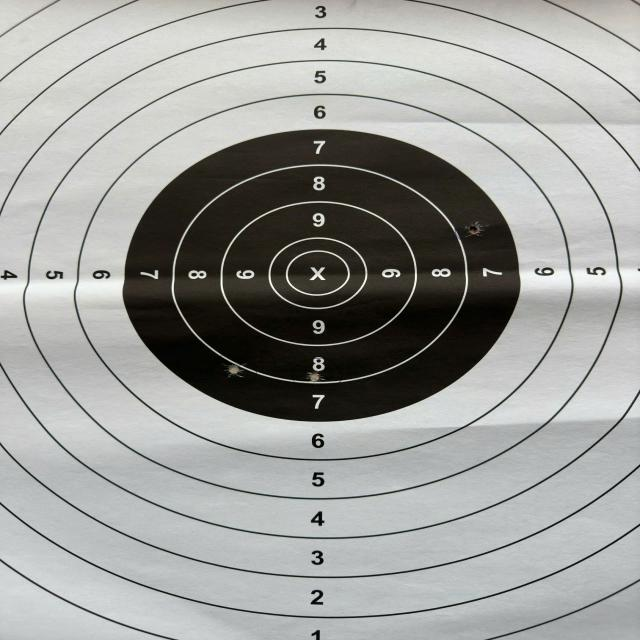bullet: (465, 222, 483, 236), (225, 364, 244, 377), (306, 373, 320, 382)
target: (0, 0, 640, 640)
